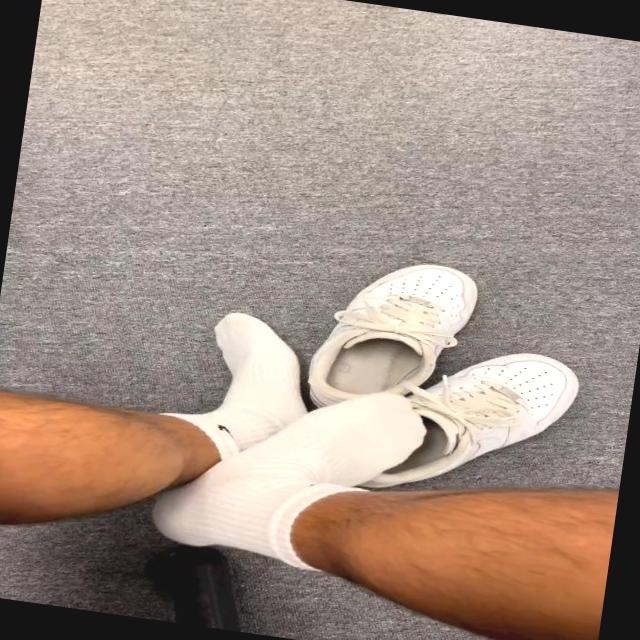nike_original_airforce: (368, 336, 585, 509), (302, 245, 493, 436)
